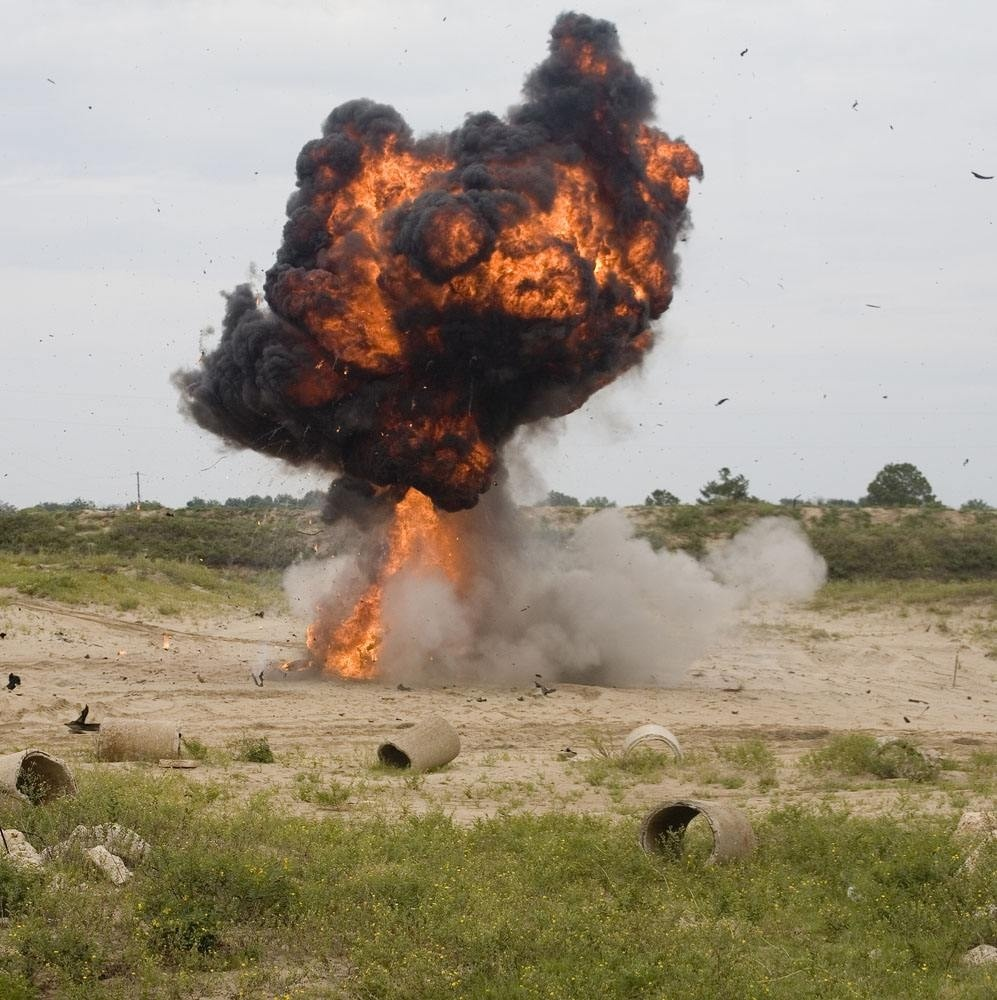fire: (231, 90, 696, 690)
